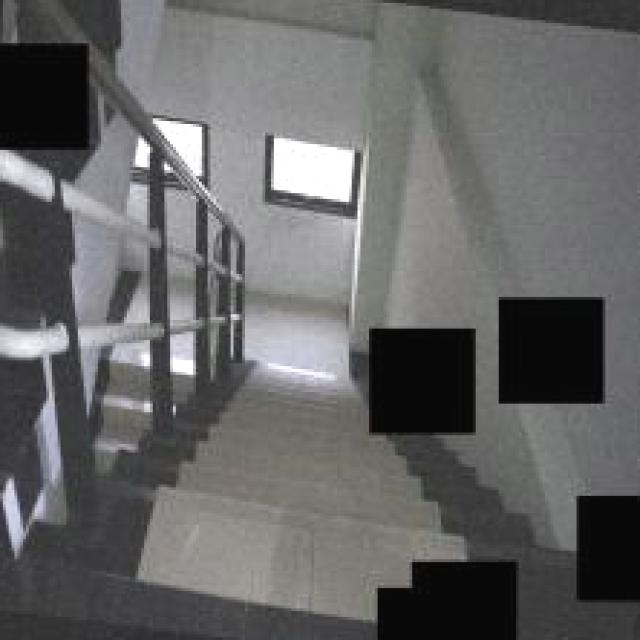downstair: (220, 335, 364, 640)
